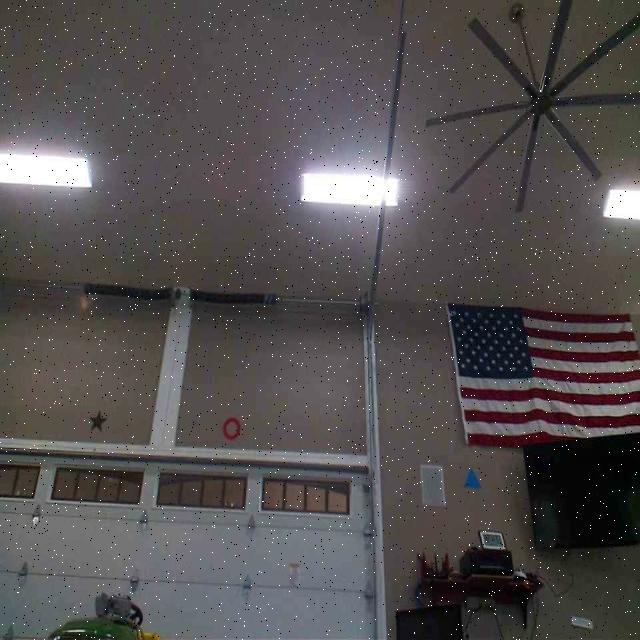ring_red: (220, 416, 240, 439)
star_black: (87, 407, 109, 433)
triangle_blue: (462, 467, 483, 489)
